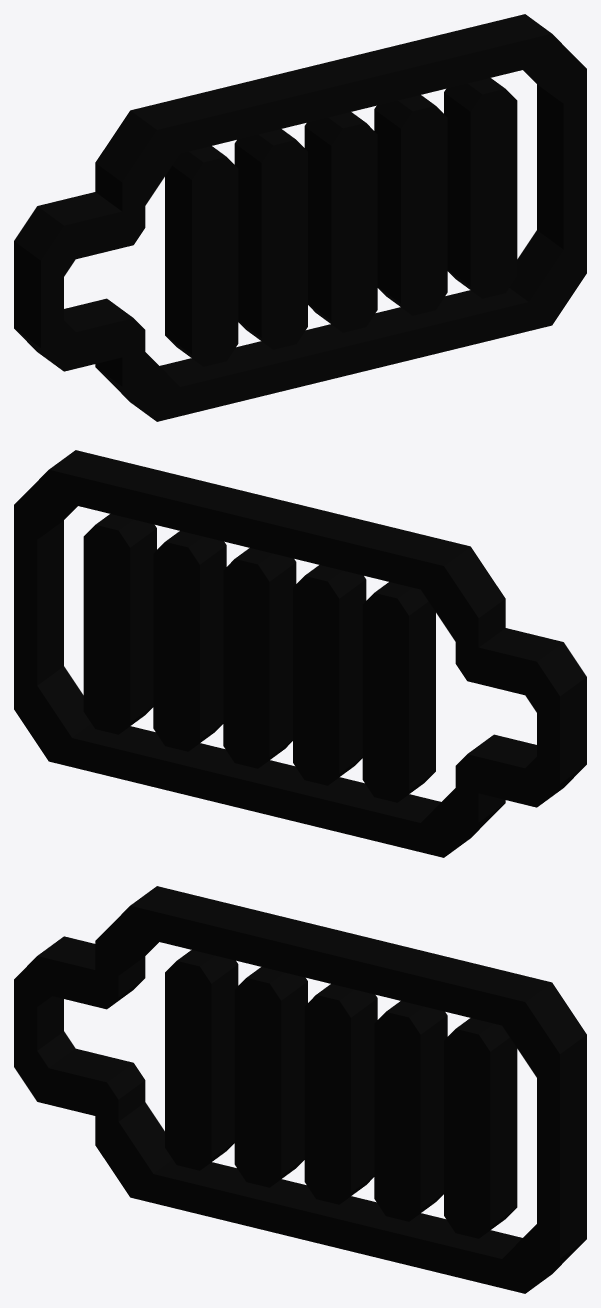
Rendered from batteryicon.fbx.
3 renders of one model, top to bottom at view 1: azimuth 30°, elevation 25°; view 2: azimuth 150°, elevation 25°; view 3: azimuth 330°, elevation 25°, orthographic.
Parts seen in each view (by area): view 1: BatteryBody; view 2: BatteryBody; view 3: BatteryBody.
Boxes of the visible parts, box(x1,y1,x2,y2) form: BatteryBody: box(14, 14, 586, 421); BatteryBody: box(14, 450, 586, 857); BatteryBody: box(14, 886, 586, 1293).
Bounding box in the file's own units: 1175 × 600 × 100.
